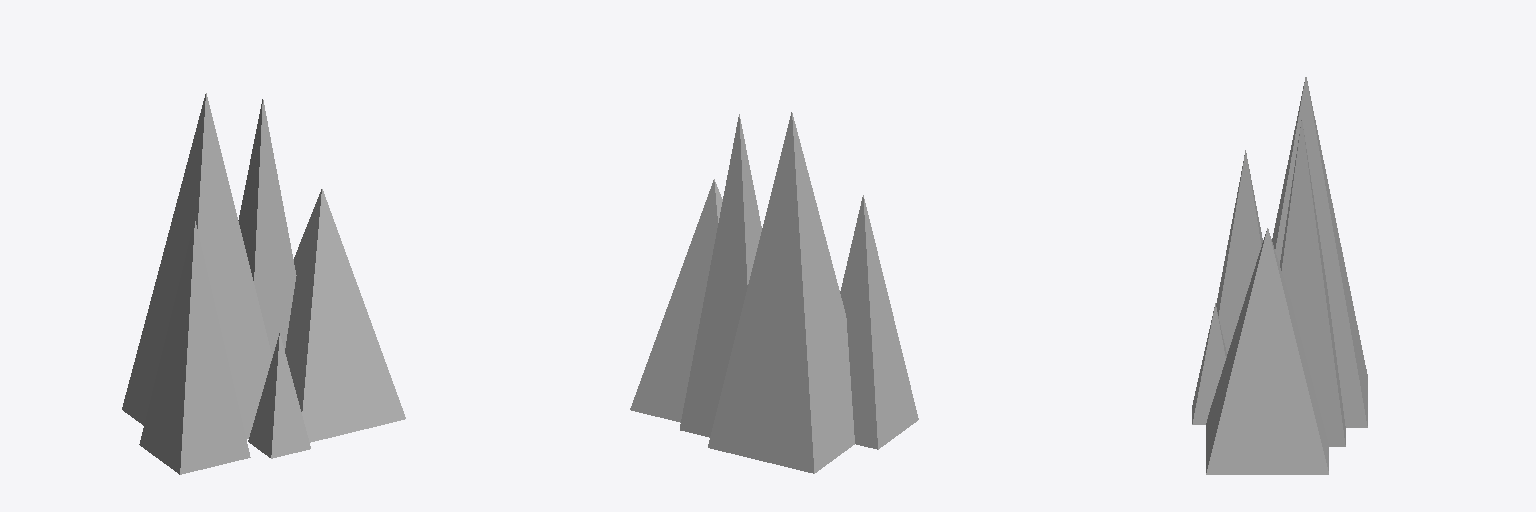
3 renders of one model, left to right at view 1: azimuth 30°, elevation 25°; view 2: azimuth 150°, elevation 25°; view 3: azimuth 270°, elevation 25°, orthographic.
Parts seen in each view (by area): view 1: Cube.004; view 2: Cube.004; view 3: Cube.004.
Boxes of the visible parts, <box> form: Cube.004: <box>122,93,405,474</box>; Cube.004: <box>630,112,918,473</box>; Cube.004: <box>1192,77,1367,474</box>.
Size of the model in its own units: 18.59 by 25.65 by 12.46.
1 materials, 1 textured.